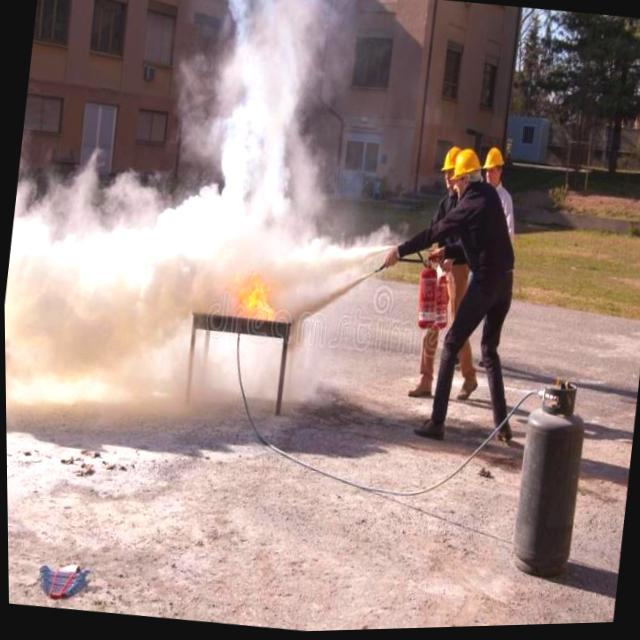FireExtinguisher: (409, 250, 438, 334), (424, 265, 456, 332)
